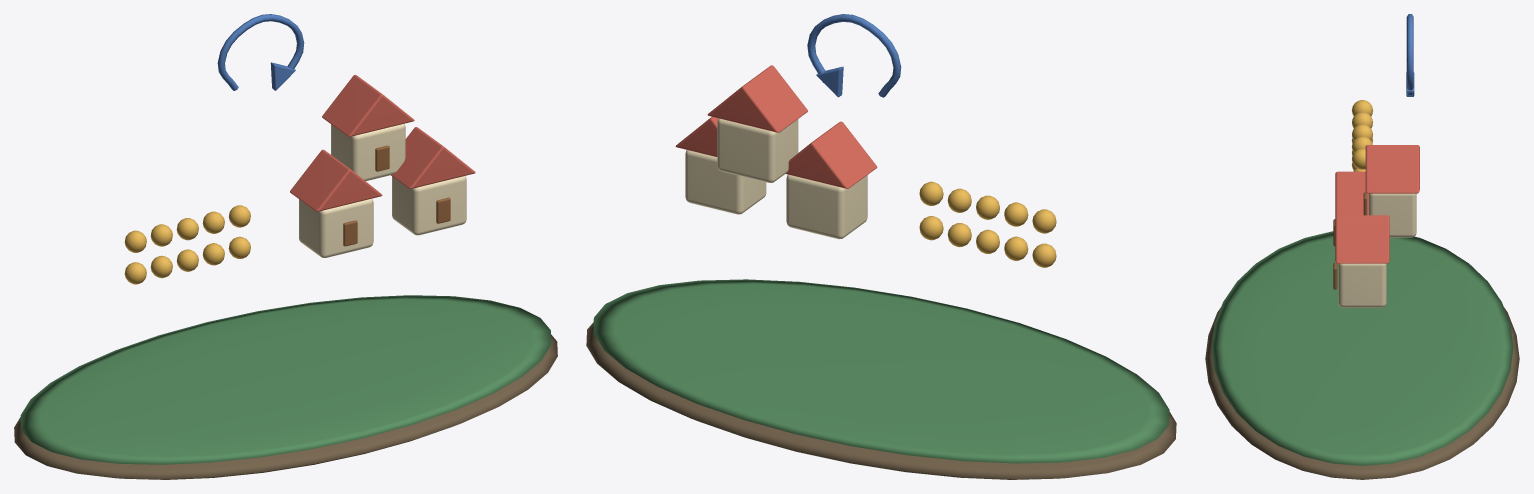
The model's file is complete-third-thousand-village-repeat.glb.
3 views of the same model, side by side, from view 1: azimuth 30°, elevation 25°; view 2: azimuth 150°, elevation 25°; view 3: azimuth 270°, elevation 25° (orthographic). The views are drawn at different scales.
Parts seen in each view (by area): view 1: complete-third-thousand-village-repeat_surface_01, complete-third-thousand-village-repeat_surface_03, complete-third-thousand-village-repeat_surface_00, complete-third-thousand-village-repeat_surface_04, complete-third-thousand-village-repeat_surface_02, complete-third-thousand-village-repeat_surface_06, complete-third-thousand-village-repeat_surface_05; view 2: complete-third-thousand-village-repeat_surface_01, complete-third-thousand-village-repeat_surface_03, complete-third-thousand-village-repeat_surface_00, complete-third-thousand-village-repeat_surface_04, complete-third-thousand-village-repeat_surface_02, complete-third-thousand-village-repeat_surface_06; view 3: complete-third-thousand-village-repeat_surface_01, complete-third-thousand-village-repeat_surface_04, complete-third-thousand-village-repeat_surface_00, complete-third-thousand-village-repeat_surface_03, complete-third-thousand-village-repeat_surface_02, complete-third-thousand-village-repeat_surface_06.
Boxes of the visible parts, x1,y1,x2,y2 form: complete-third-thousand-village-repeat_surface_01: [20, 295, 551, 464]; complete-third-thousand-village-repeat_surface_03: [299, 124, 466, 257]; complete-third-thousand-village-repeat_surface_00: [14, 334, 557, 479]; complete-third-thousand-village-repeat_surface_04: [290, 75, 475, 211]; complete-third-thousand-village-repeat_surface_02: [124, 205, 250, 284]; complete-third-thousand-village-repeat_surface_06: [217, 14, 304, 90]; complete-third-thousand-village-repeat_surface_05: [343, 145, 450, 246]; complete-third-thousand-village-repeat_surface_01: [593, 279, 1169, 463]; complete-third-thousand-village-repeat_surface_03: [685, 118, 867, 239]; complete-third-thousand-village-repeat_surface_00: [586, 322, 1176, 479]; complete-third-thousand-village-repeat_surface_04: [675, 65, 877, 188]; complete-third-thousand-village-repeat_surface_02: [919, 181, 1056, 267]; complete-third-thousand-village-repeat_surface_06: [807, 14, 901, 97]; complete-third-thousand-village-repeat_surface_01: [1211, 231, 1513, 465]; complete-third-thousand-village-repeat_surface_04: [1335, 145, 1419, 263]; complete-third-thousand-village-repeat_surface_00: [1205, 307, 1519, 479]; complete-third-thousand-village-repeat_surface_03: [1338, 193, 1416, 307]; complete-third-thousand-village-repeat_surface_02: [1351, 100, 1373, 171]; complete-third-thousand-village-repeat_surface_06: [1406, 14, 1414, 96].
Size of the model in its own units: 4.56 by 3.13 by 2.5.
